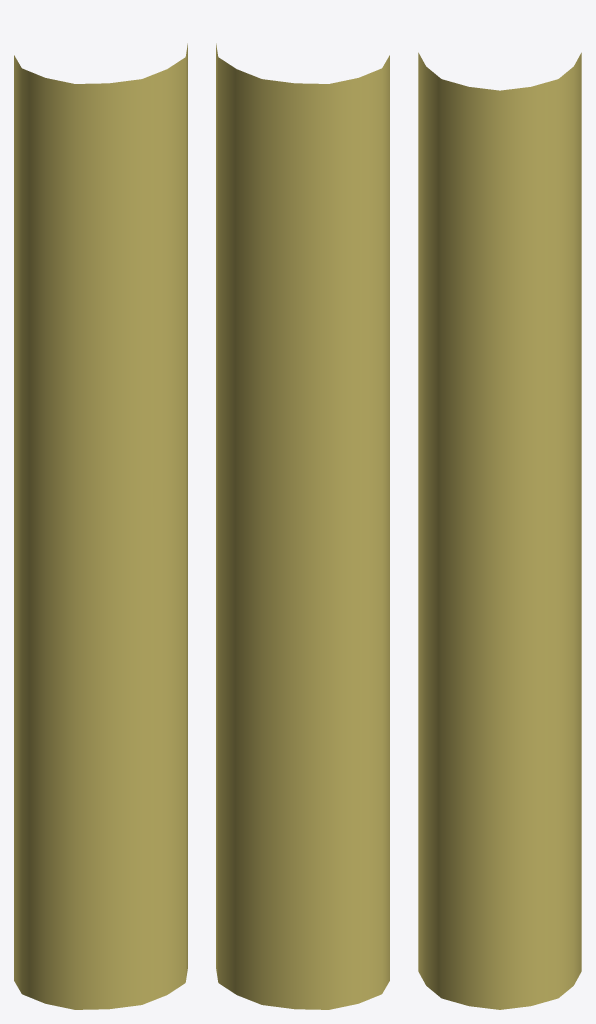
Rendered from intermediomedial-nucleus.glb.
3 renders of one model, left to right at view 1: azimuth 30°, elevation 25°; view 2: azimuth 150°, elevation 25°; view 3: azimuth 270°, elevation 25°, orthographic.
Parts seen in each view (by area): view 1: Intermediomedial nucleus; view 2: Intermediomedial nucleus; view 3: Intermediomedial nucleus.
Part boxes in pixels (box(x1,y1,x2,y2)): Intermediomedial nucleus: box(14, 43, 187, 1009); Intermediomedial nucleus: box(216, 43, 389, 1009); Intermediomedial nucleus: box(418, 52, 581, 1009).
Bounding box in the file's own units: 0.000894 × 0.005 × 0.000804.
